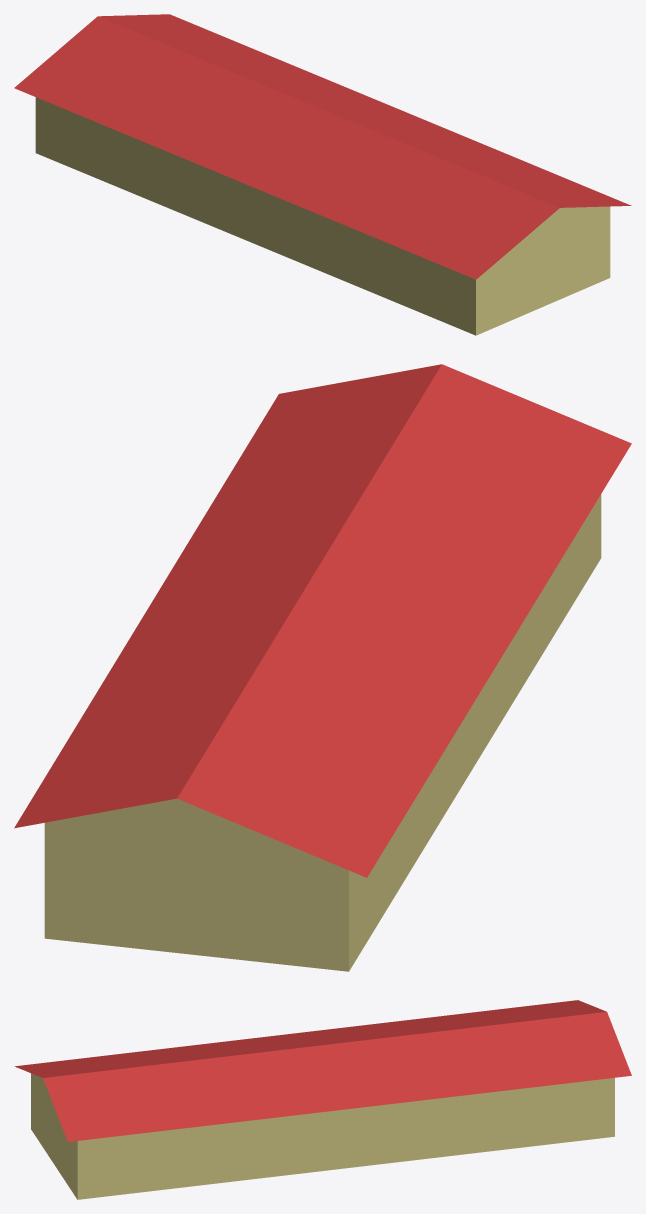
3 renders of one model, top to bottom at view 1: azimuth 30°, elevation 25°; view 2: azimuth 150°, elevation 25°; view 3: azimuth 270°, elevation 25°, orthographic. The views are drawn at different scales.
Bounding box in the file's own units: 38.03 × 67.02 × 10.91.
